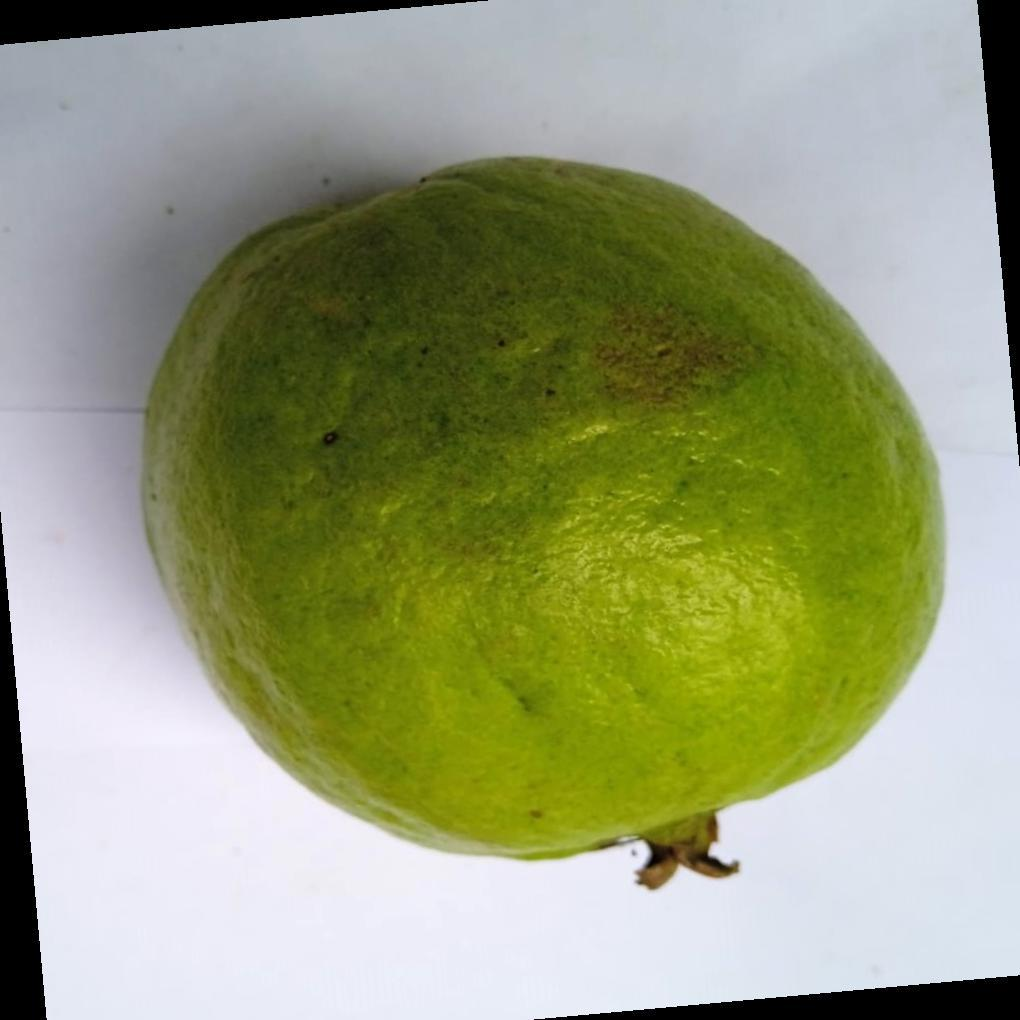FreshGuava: (138, 156, 948, 892)
